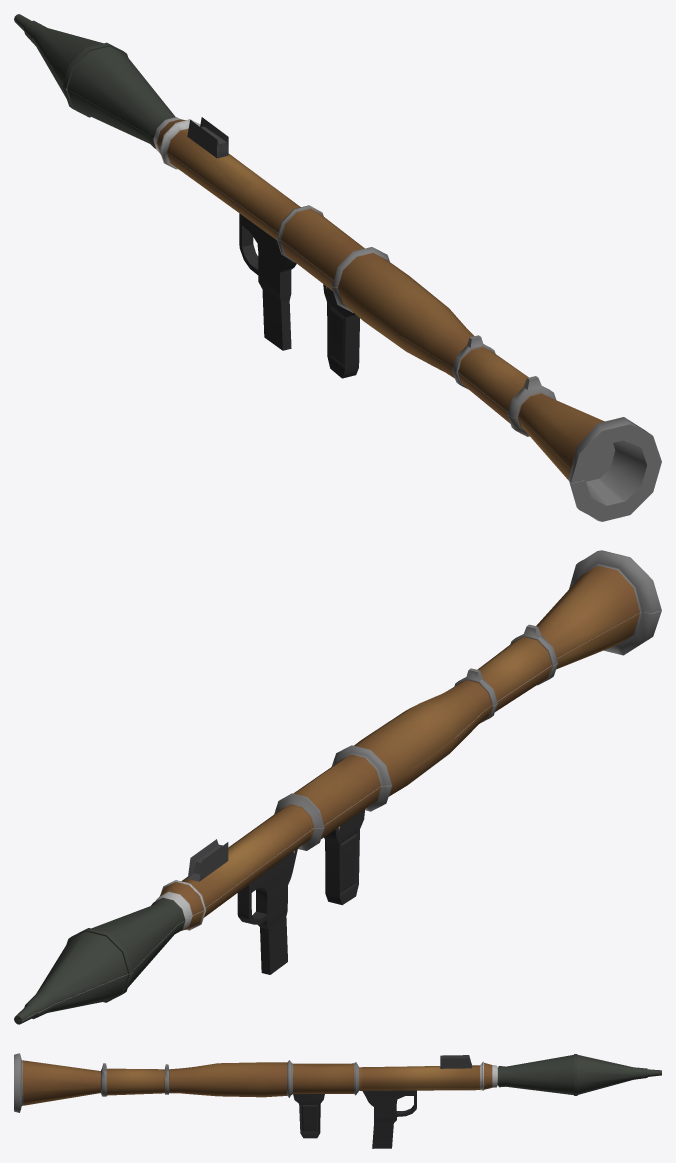
The model's file is rocketLauncher.glb.
The picture shows the model from 3 angles, top to bottom: view 1: azimuth 30°, elevation 25°; view 2: azimuth 150°, elevation 25°; view 3: azimuth 270°, elevation 25°; orthographic projection. The views are drawn at different scales.
Visible parts, largest first — view 1: polySurface6; view 2: polySurface6; view 3: polySurface6.
Part boxes in pixels (<box>): polySurface6: <box>14,14,661,521</box>; polySurface6: <box>14,550,661,1024</box>; polySurface6: <box>14,1053,661,1148</box>.
Bounding box in the file's own units: 0.9995 × 1.75 × 11.3.
2 materials, 1 textured.
